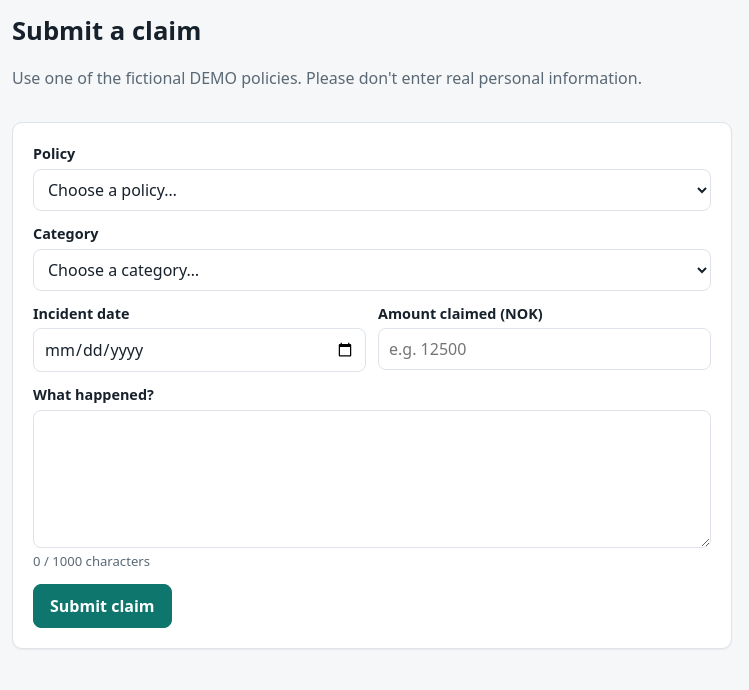
Test: NewClaimForm › pre-selects the category covered by the chosen policy
Select "DEMO-POL-1001 · Motor · Fictional Customer A" in the dropdown labelled "Policy" at (372, 190), box [33, 169, 711, 211]
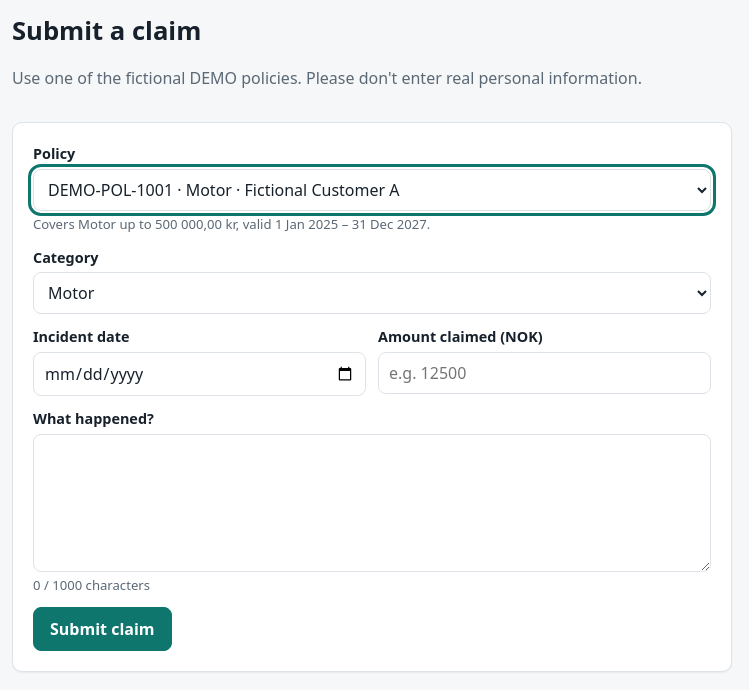
Check: the dropdown labelled "Category" shows "Motor", box [33, 272, 711, 314]
